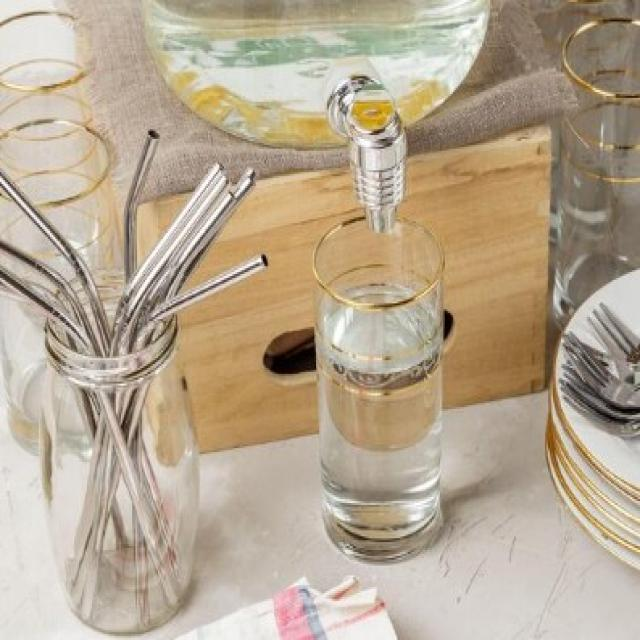electronic: (39, 202, 446, 640)
